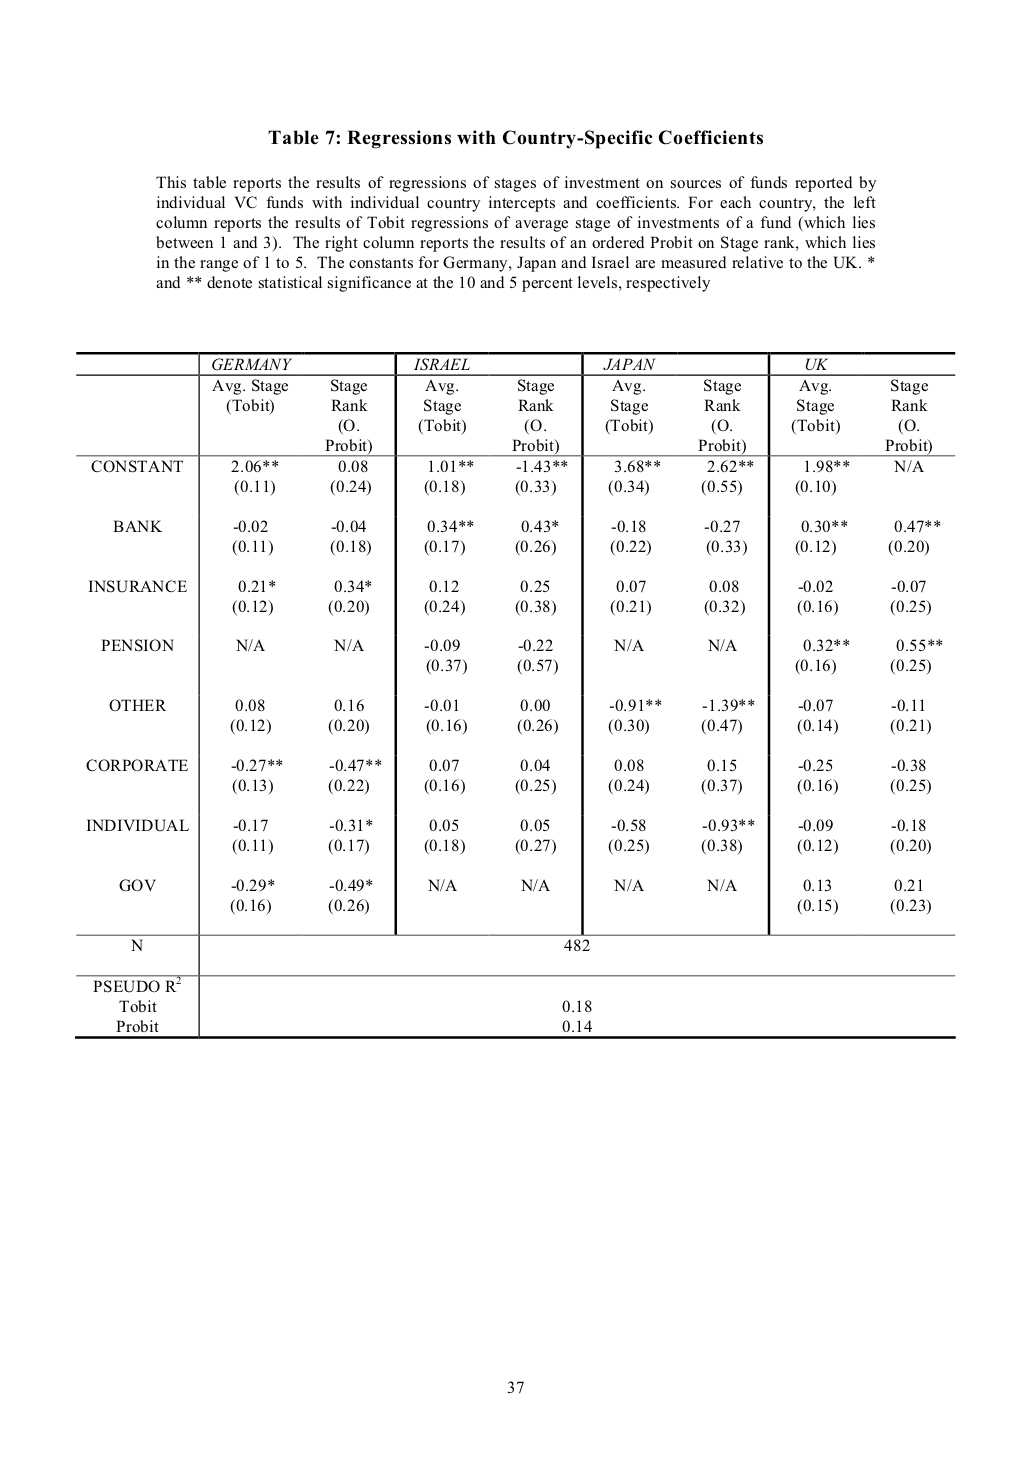Table: (75, 351, 955, 1038)
